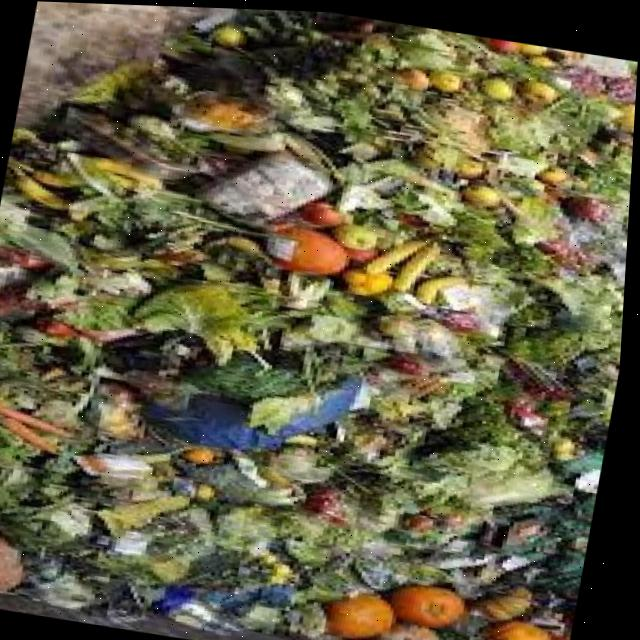Wet: (0, 0, 640, 640), (362, 281, 601, 443), (291, 530, 584, 640), (237, 175, 467, 315), (0, 511, 103, 620), (283, 463, 397, 534)
